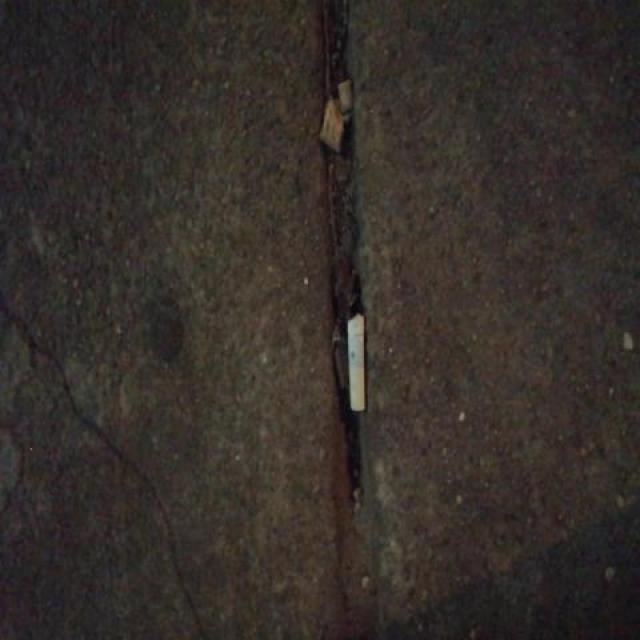non-organic waste: (345, 310, 368, 414)
